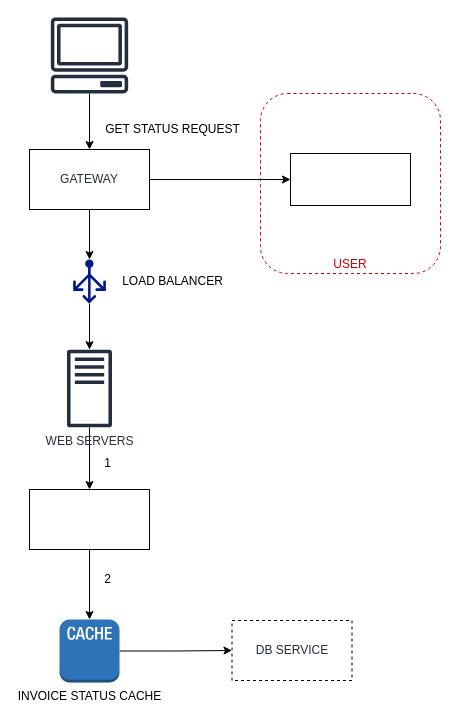
The diagram is 458 pixels wide and 720 high, and some of its shapes have lost their labels. The centre of each missing label's shape, as x and y in pixels:
"Client" goes at point 89,55.
"STATUS SERVICE" goes at point 89,519.
"USER CONTROL" goes at point 350,179.
